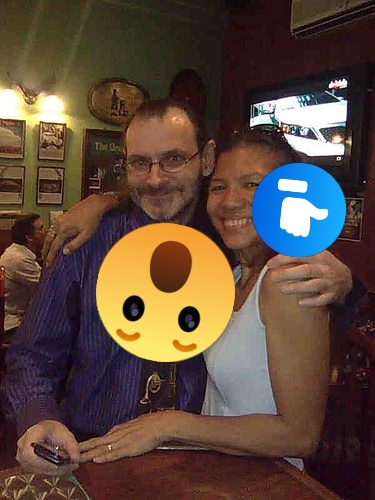like: (252, 163, 346, 257)
wow: (96, 223, 235, 362)
